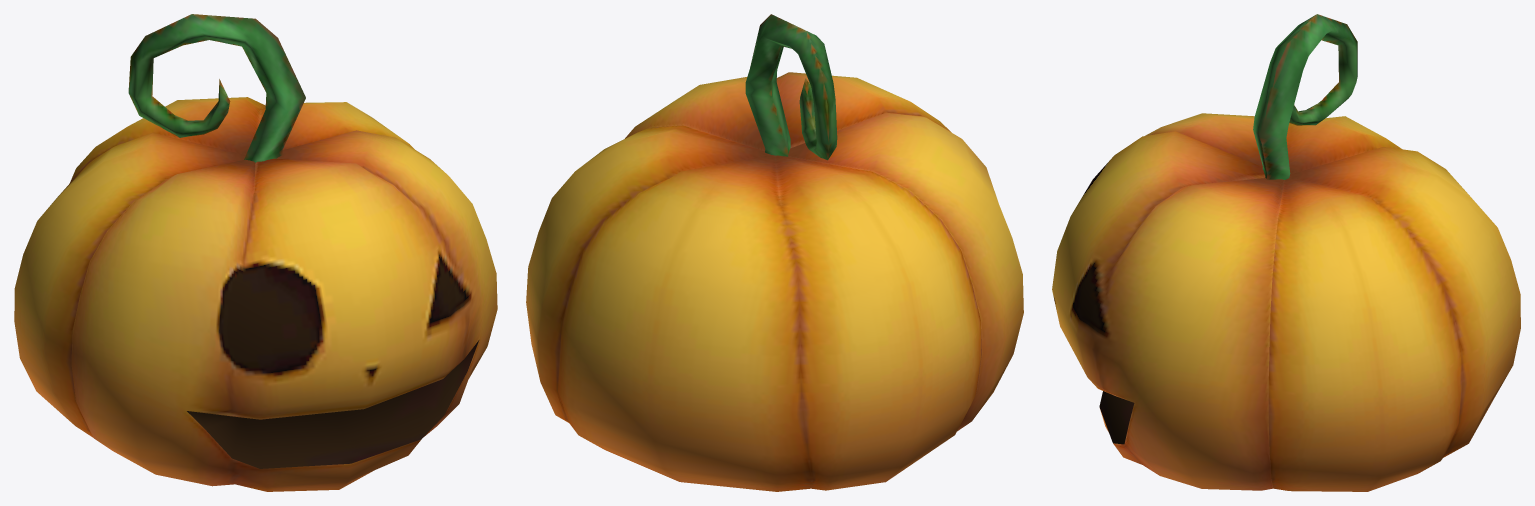
File: helm0094.fbx
3 views of the same model, side by side, from view 1: azimuth 30°, elevation 25°; view 2: azimuth 150°, elevation 25°; view 3: azimuth 270°, elevation 25° (orthographic). The views are drawn at different scales.
Parts seen in each view (by area): view 1: helm0094; view 2: helm0094; view 3: helm0094.
Boxes of the visible parts, x1,y1,x2,y2 form: helm0094: (14, 14, 497, 491); helm0094: (526, 14, 1023, 491); helm0094: (1052, 14, 1520, 491).
Size of the model in its own units: 0.5302 by 0.5293 by 0.5454.
